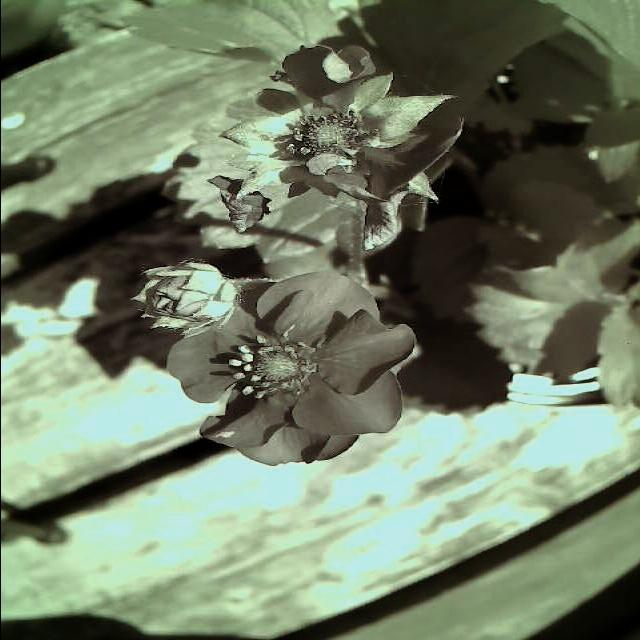flower: (164, 269, 418, 468)
